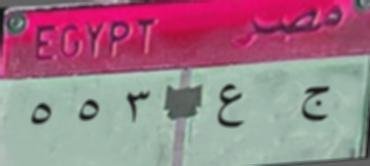3: (118, 86, 156, 126)
5: (25, 100, 56, 133), (75, 96, 104, 131)
ain: (212, 80, 250, 133)
jeem: (294, 82, 332, 126)
